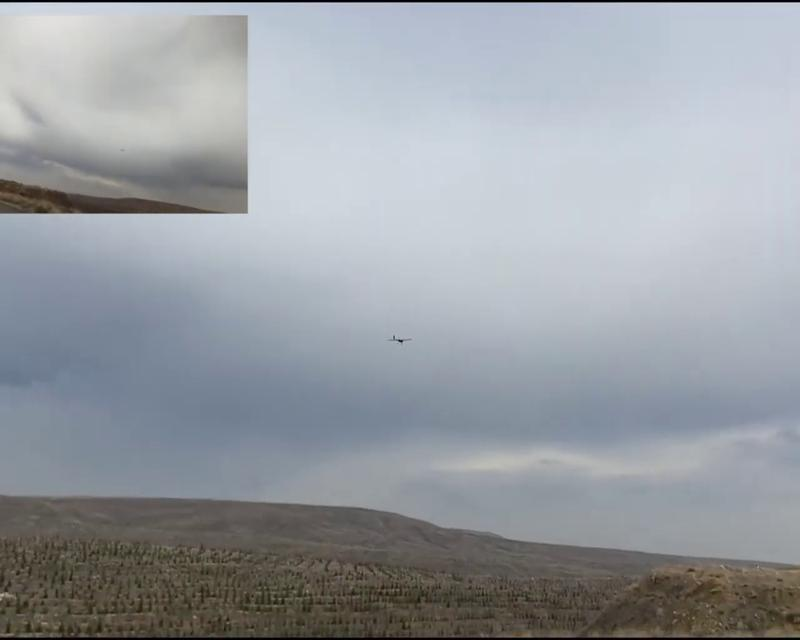UAV: (388, 336, 412, 344)
